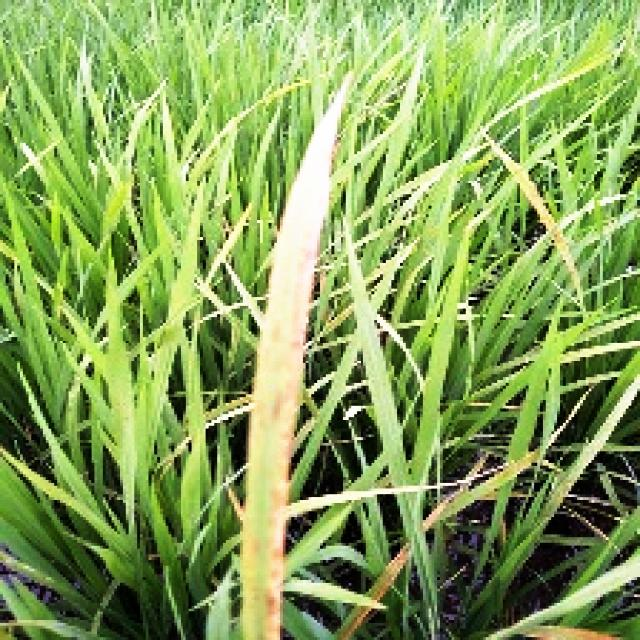unhealth: (242, 77, 347, 640)
